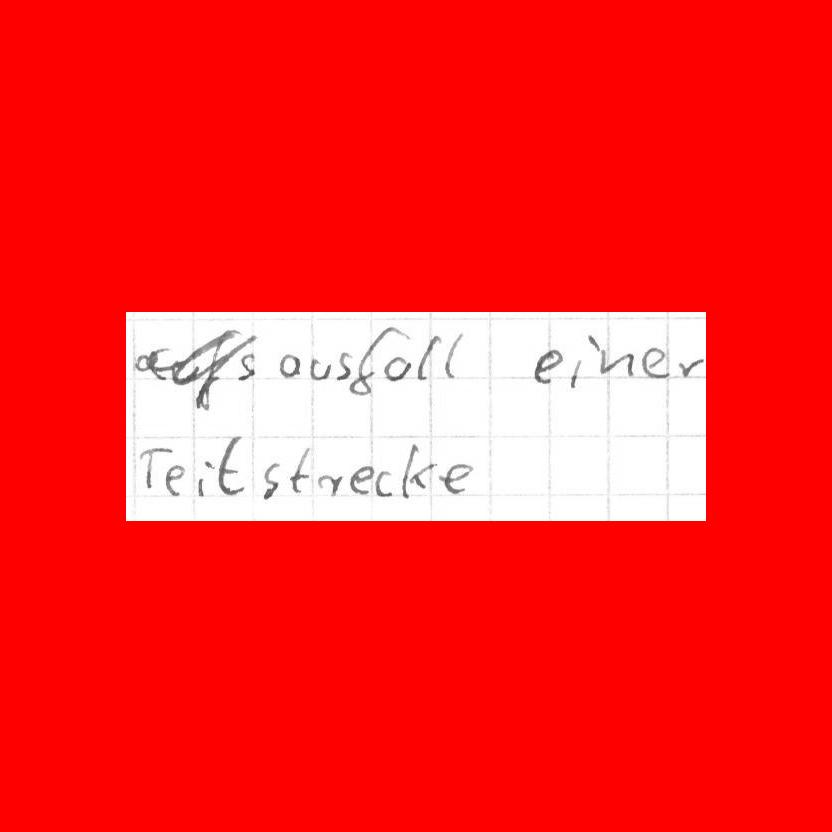Char: (353, 329, 389, 399), (399, 441, 436, 496), (566, 334, 598, 389), (217, 439, 247, 494), (134, 343, 173, 381), (531, 346, 564, 385), (141, 442, 167, 491), (288, 446, 312, 496), (416, 335, 440, 383), (440, 460, 472, 496), (599, 347, 637, 377), (641, 345, 673, 380), (442, 331, 464, 381), (380, 353, 413, 383), (259, 459, 280, 503), (195, 455, 214, 498), (164, 462, 187, 497), (349, 464, 372, 498), (277, 351, 301, 378), (374, 468, 395, 498), (334, 348, 353, 381), (676, 356, 702, 380), (237, 350, 256, 382), (309, 356, 333, 381), (318, 472, 344, 495)
